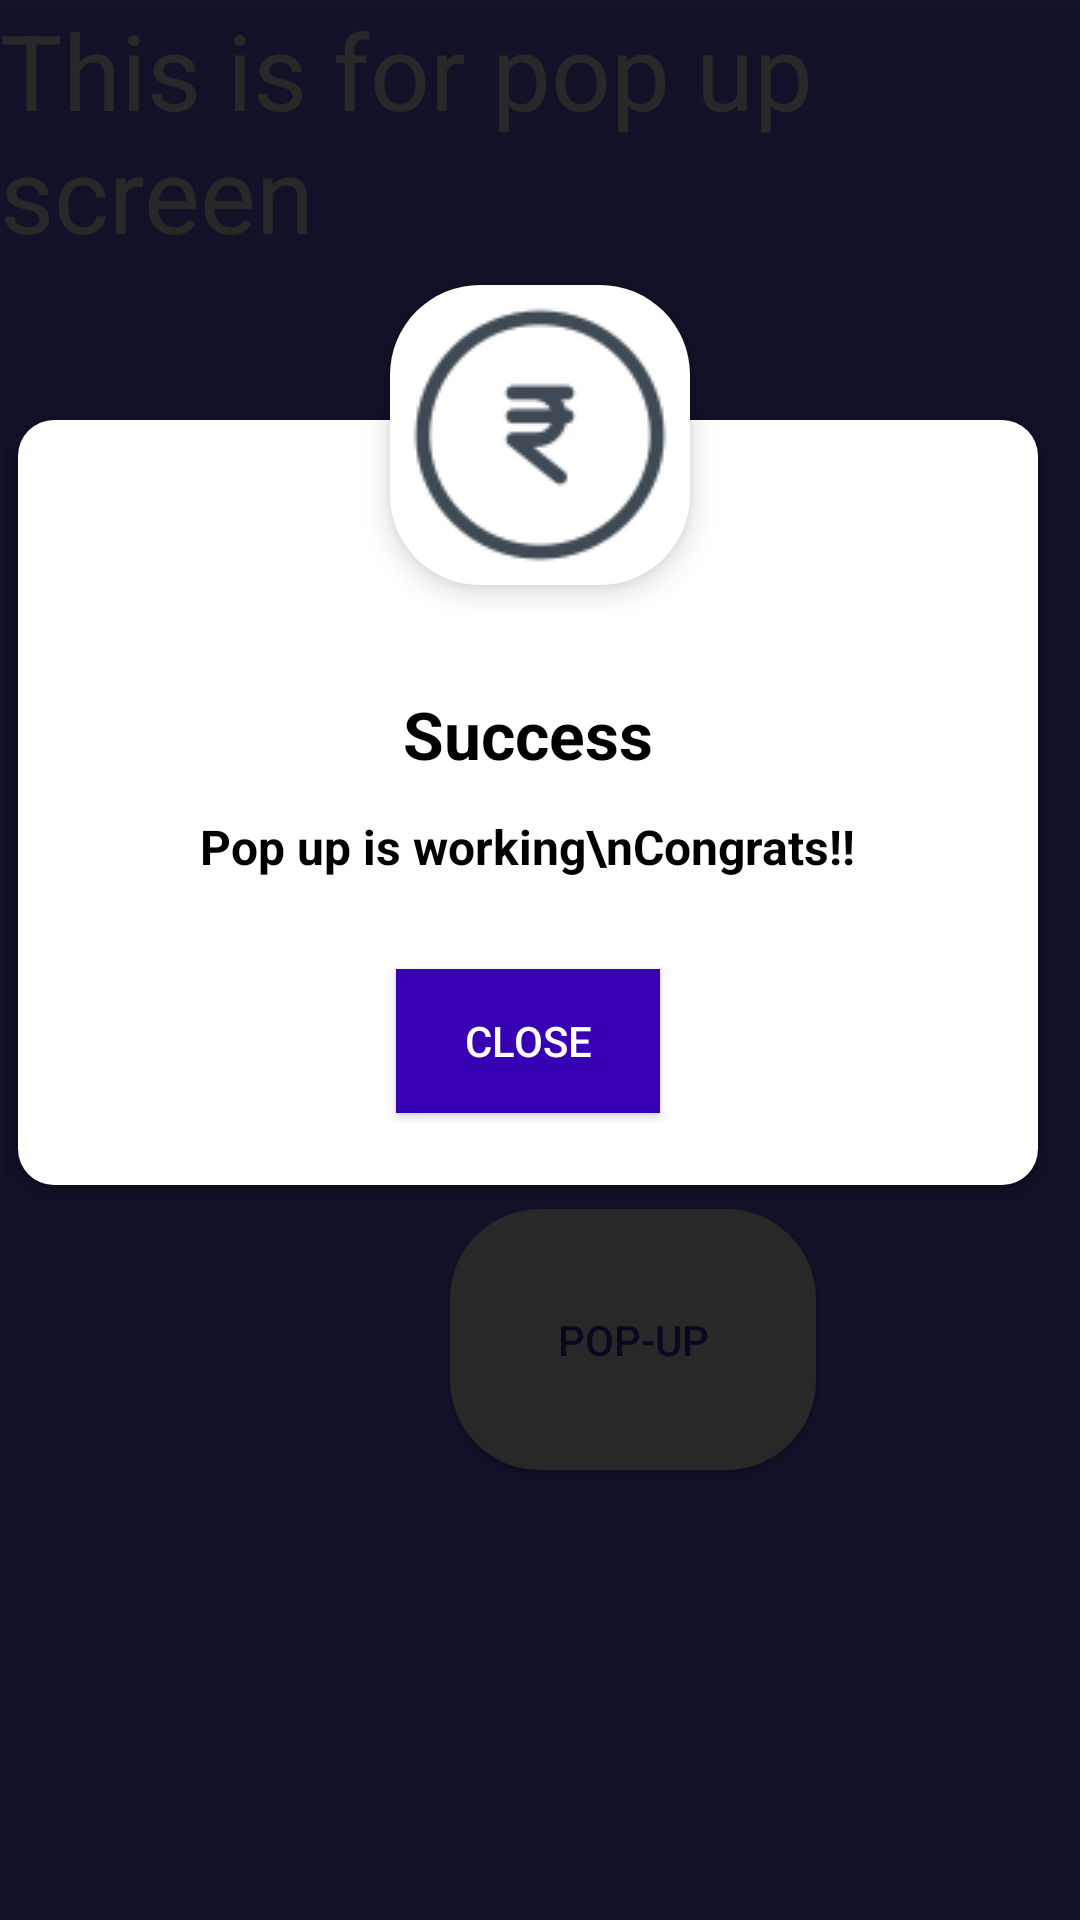

Point at icon controls on the screen. Image size 1080 × 1920, points as (x,y).
rupee: (540,435)
